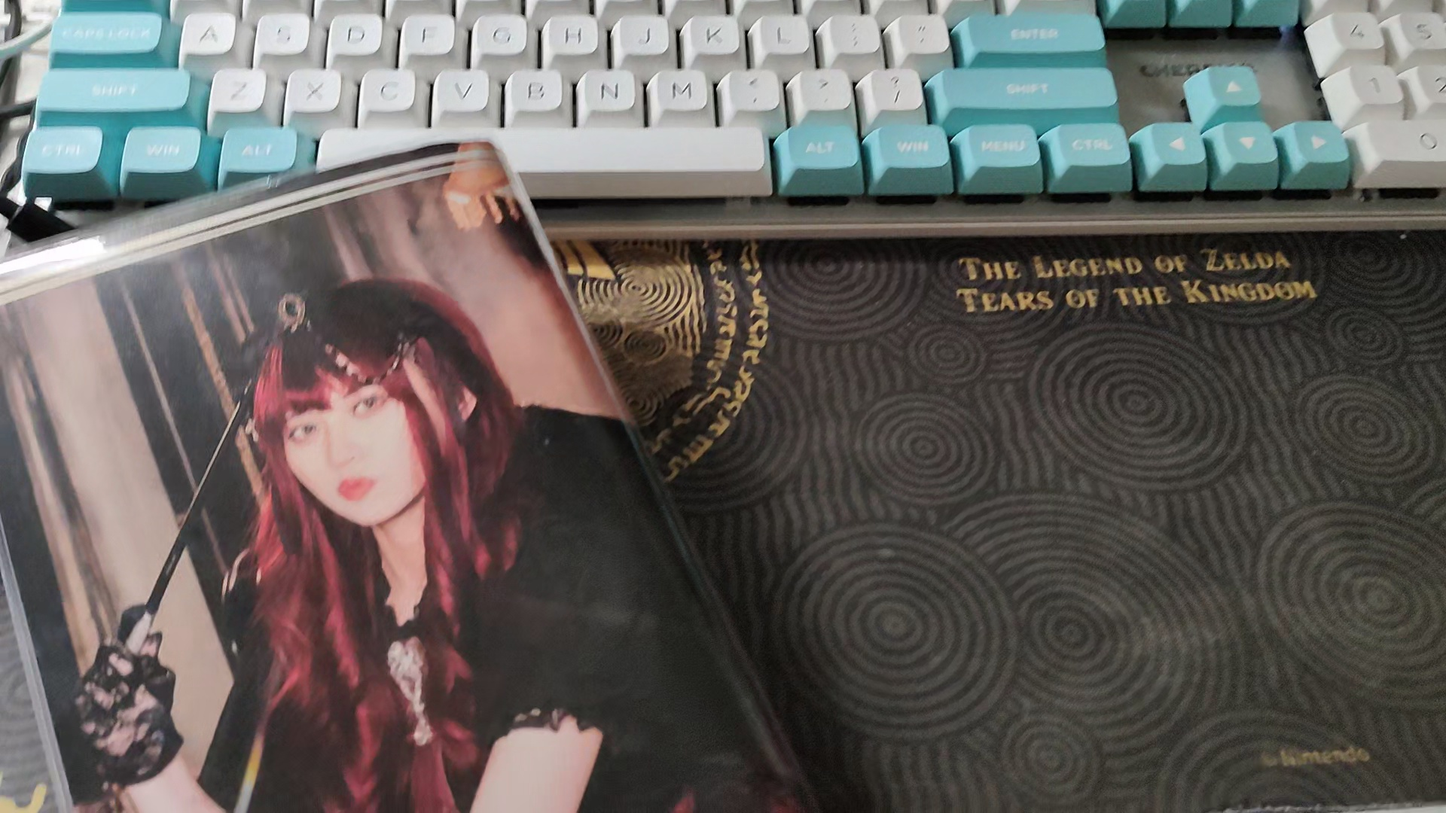Photo_book: (0, 139, 832, 813)
